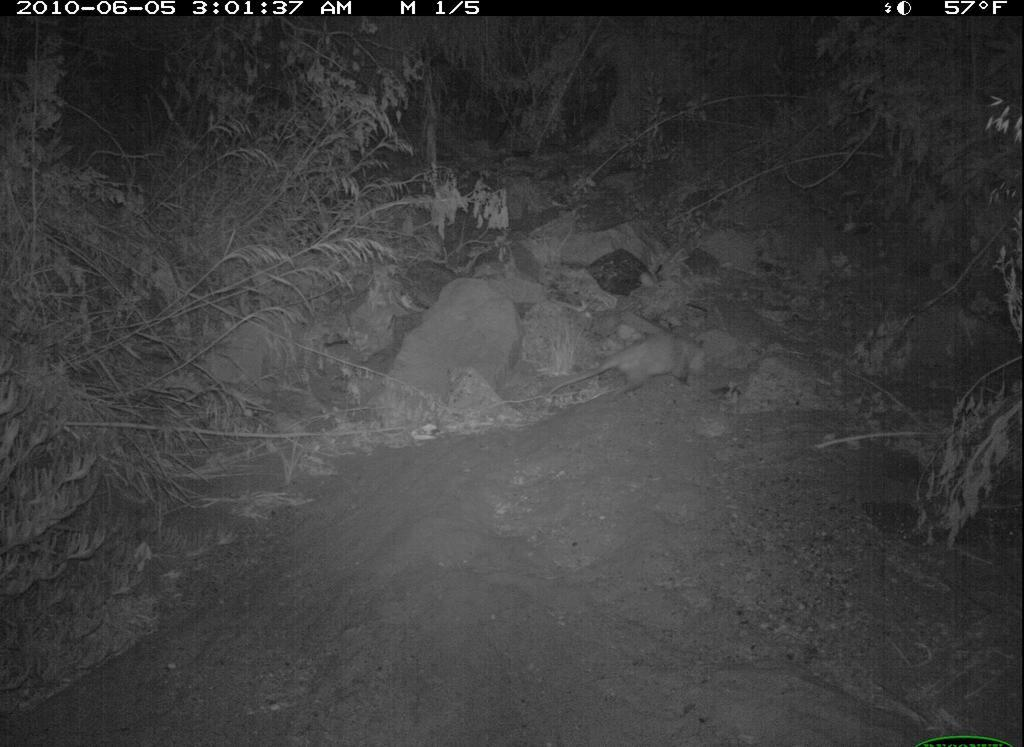opossum: (547, 329, 739, 422)
